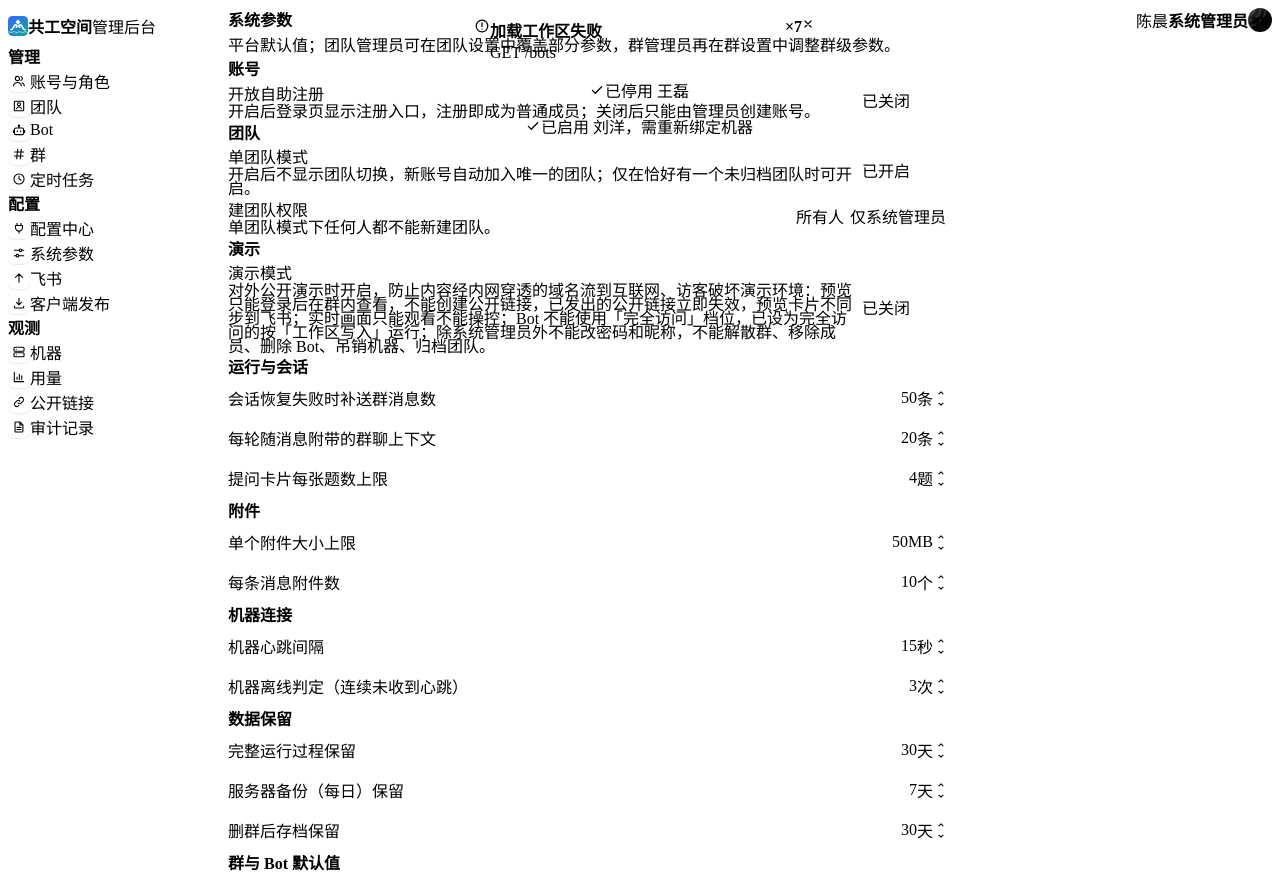
Test: 系统参数 › opens and closes self sign-up at once from the 账号 section
Click the switch named "开放自助注册" at coordinates (886, 102), box [862,93,910,110]
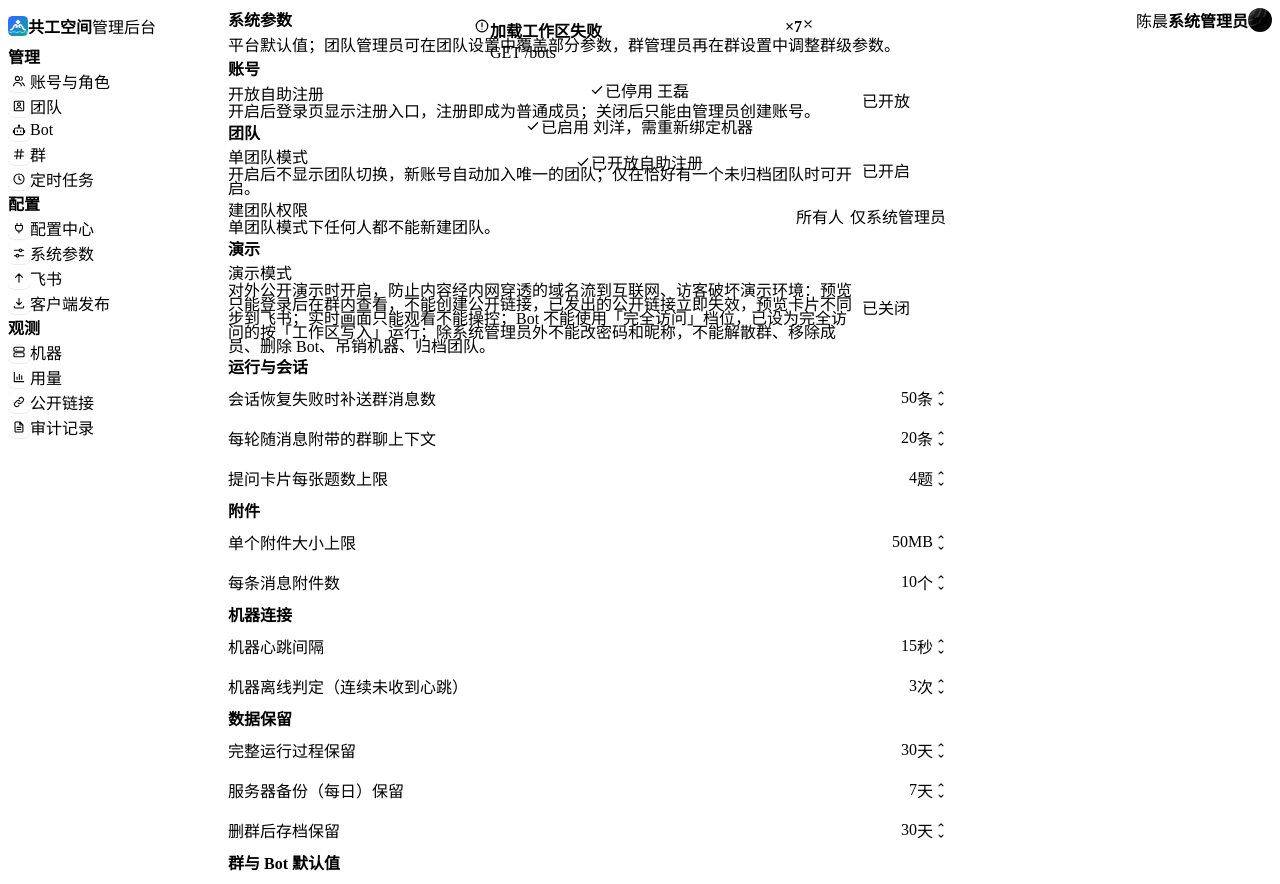
Expected: the text "已开放" is shown, [862,88,910,112]
